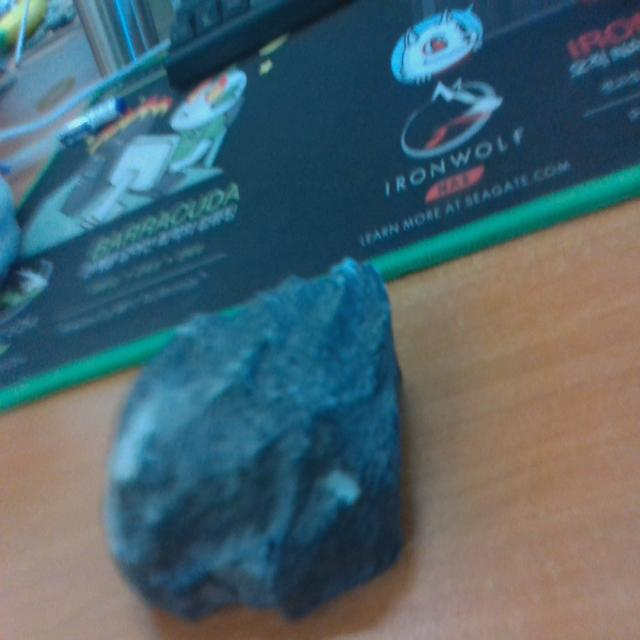stone: (97, 251, 407, 623)
